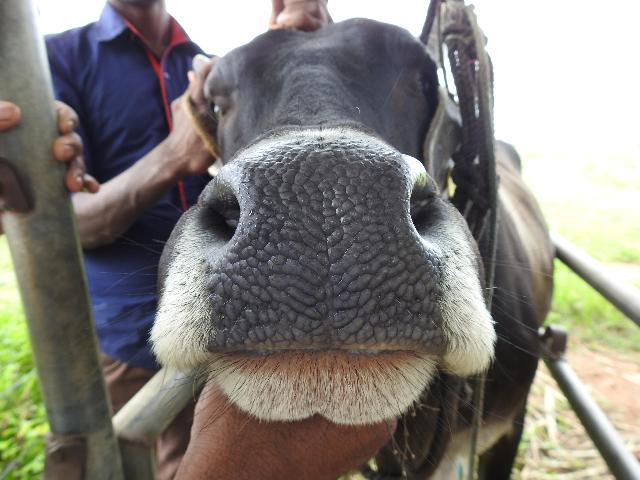Muzzle: (241, 158, 413, 346)
